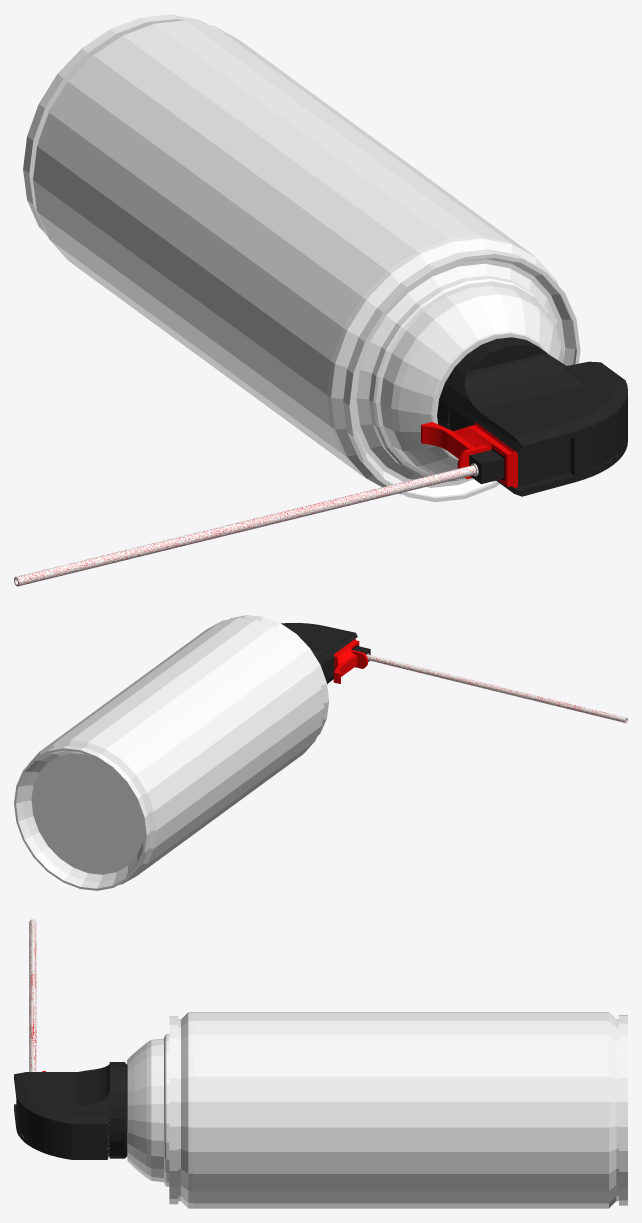
3 renders of one model, top to bottom at view 1: azimuth 30°, elevation 25°; view 2: azimuth 150°, elevation 25°; view 3: azimuth 270°, elevation 25°, orthographic. The views are drawn at different scales.
Visible parts, largest first — view 1: dust off can; view 2: dust off can; view 3: dust off can.
Part boxes in pixels (x1,y1,x2,y2): dust off can: (14,14,627,586); dust off can: (14,615,627,890); dust off can: (14,919,627,1208).
Bounding box in the file's own units: 7.26 × 2.64 × 8.2.
